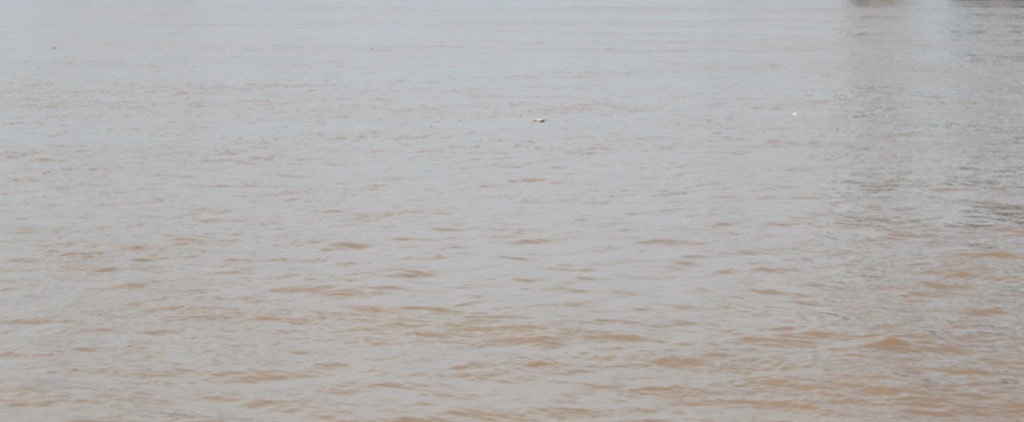plastic: (520, 103, 560, 136), (782, 99, 809, 128)
structure: (843, 1, 923, 239), (945, 1, 1024, 233)
